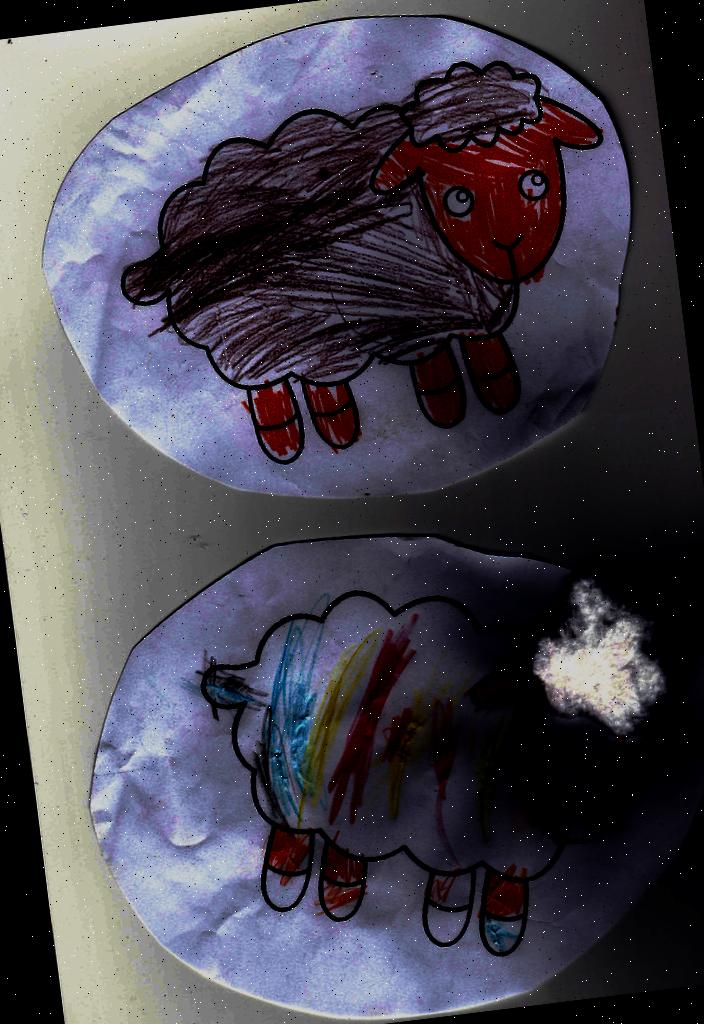Sheep: (97, 48, 637, 480), (191, 555, 704, 989)
